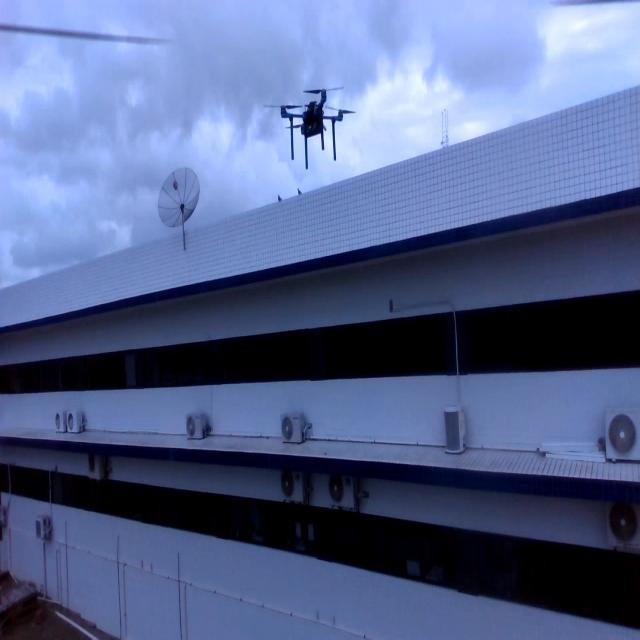-uav-: (264, 74, 358, 176)
